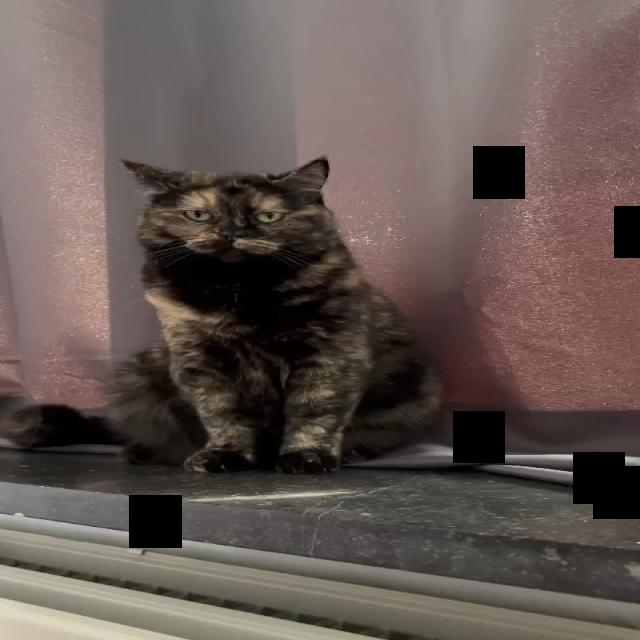authorized: (103, 155, 445, 474)
